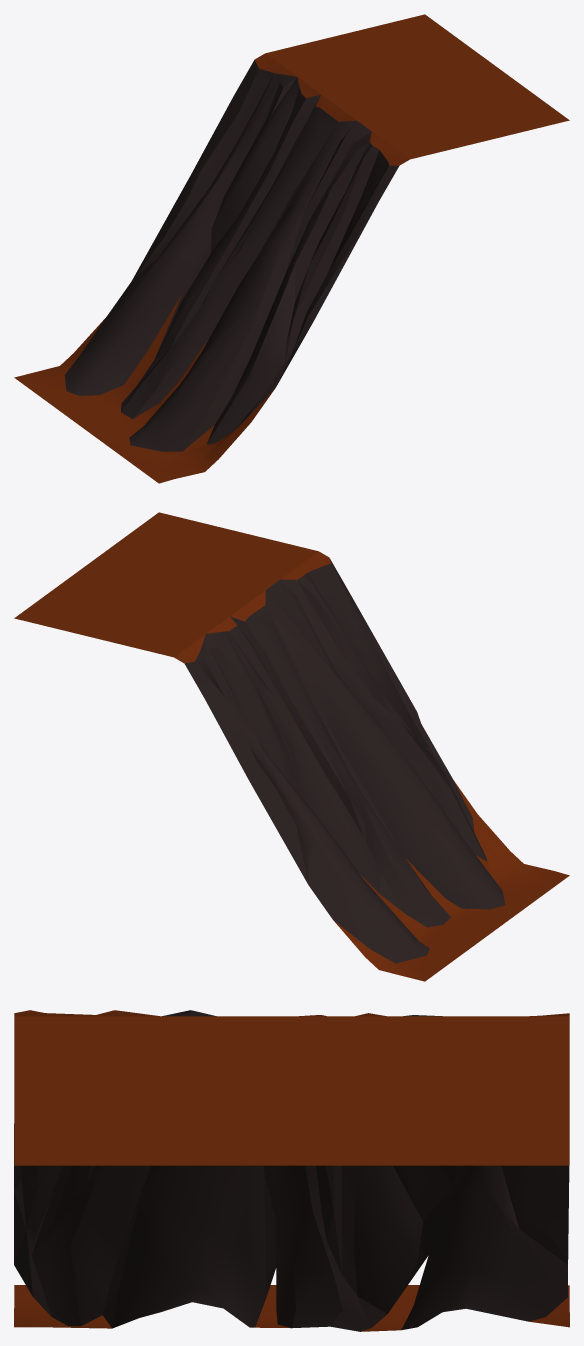
Rendered from SM_Eroded_Cliff_4x4.fbx.
3 views of the same model, one above another, from view 1: azimuth 30°, elevation 25°; view 2: azimuth 150°, elevation 25°; view 3: azimuth 270°, elevation 25° (orthographic). The views are drawn at different scales.
Parts seen in each view (by area): view 1: Group60032; view 2: Group60032; view 3: Group60032.
Boxes of the visible parts, x1=… form: Group60032: x1=14, y1=14, x2=569, y2=483; Group60032: x1=14, y1=512, x2=569, y2=981; Group60032: x1=14, y1=1010, x2=569, y2=1331.
Bounding box in the file's own units: 258 × 158 × 158.
